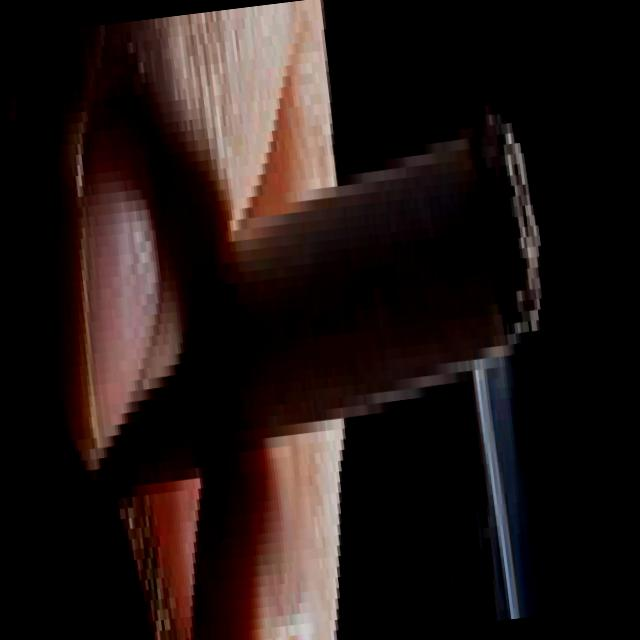cigarette: (11, 80, 582, 530)
